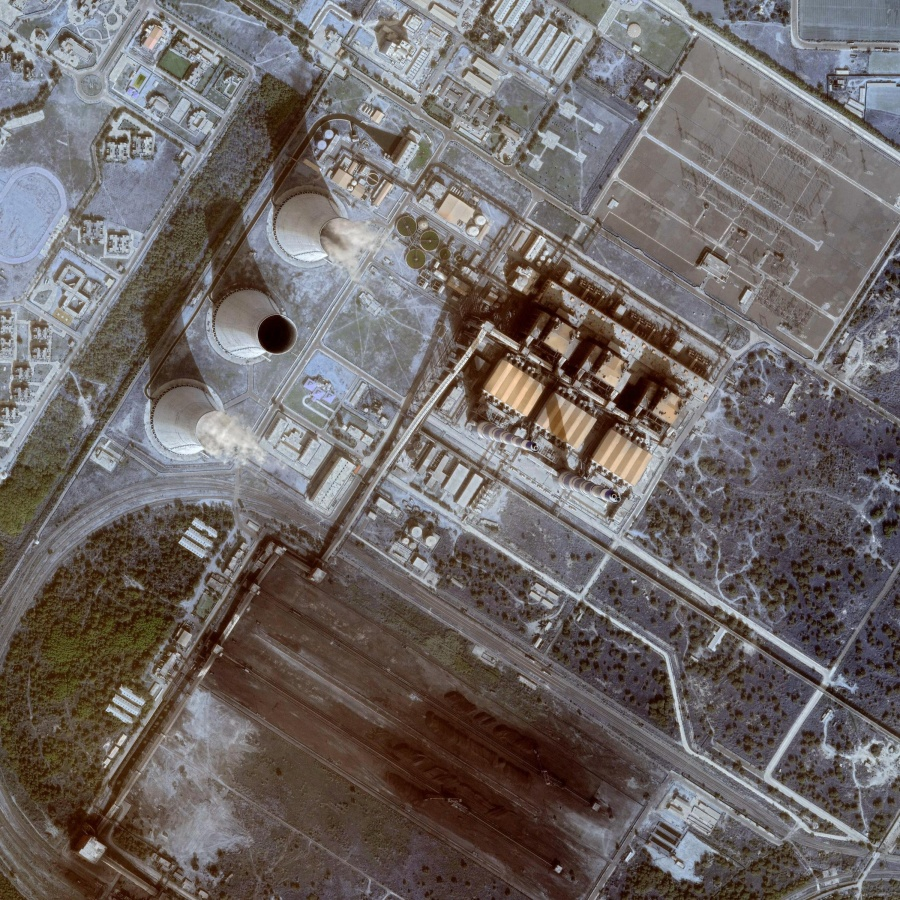PowerPlant: (138, 74, 688, 510)
